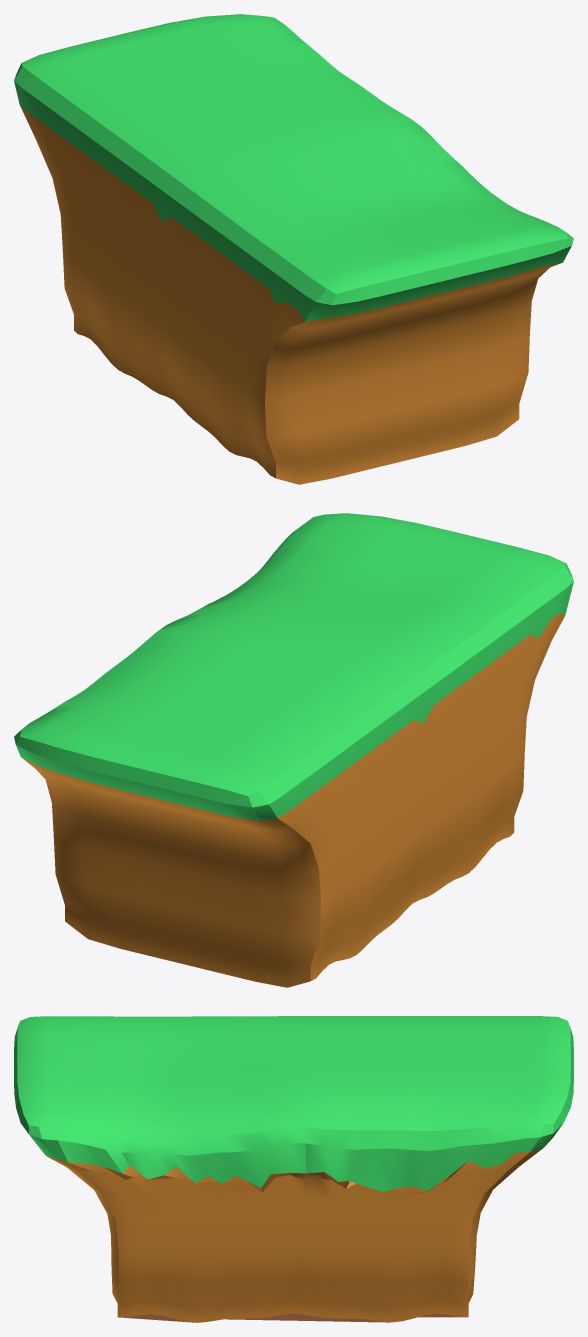
The model's file is NEW PLATFORM03.fbx.
3 renders of one model, top to bottom at view 1: azimuth 30°, elevation 25°; view 2: azimuth 150°, elevation 25°; view 3: azimuth 270°, elevation 25°, orthographic. The views are drawn at different scales.
Visible parts, largest first — view 1: Cube; view 2: Cube; view 3: Cube.
Part boxes in pixels (bbox=[...]): Cube: bbox=[14, 14, 573, 484]; Cube: bbox=[14, 513, 573, 987]; Cube: bbox=[14, 1016, 573, 1322].
Size of the model in its own units: 145 by 122 by 291.
